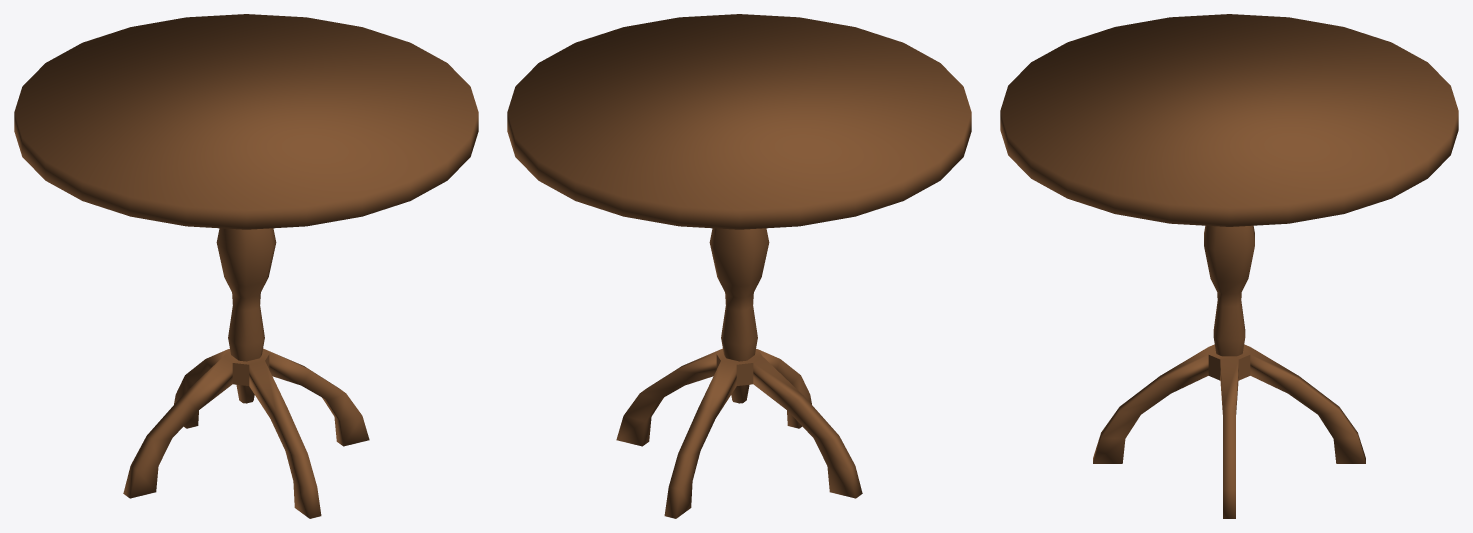
The model's file is Round Table.fbx.
The picture shows the model from 3 angles, left to right: view 1: azimuth 30°, elevation 25°; view 2: azimuth 150°, elevation 25°; view 3: azimuth 270°, elevation 25°; orthographic projection.
Visible parts, largest first — view 1: Cylinder; view 2: Cylinder; view 3: Cylinder.
Boxes of the visible parts, <box> form: Cylinder: <box>14,14,478,518</box>; Cylinder: <box>507,14,971,518</box>; Cylinder: <box>1000,14,1458,518</box>.
Size of the model in its own units: 144 by 121 by 144.
